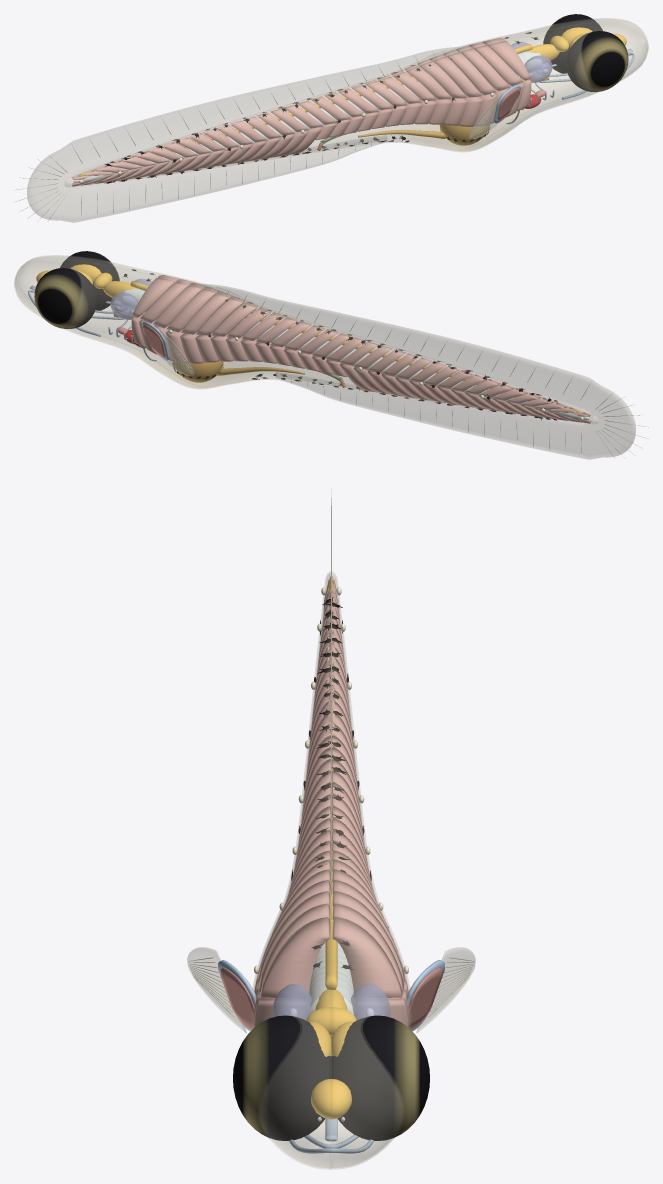
Rendered from zebrafish-larva.glb.
3 renders of one model, top to bottom at view 1: azimuth 30°, elevation 25°; view 2: azimuth 150°, elevation 25°; view 3: azimuth 270°, elevation 25°, orthographic. The views are drawn at different scales.
Parts seen in each view (by area): view 1: skin_R, median_fin_fold, myotomes_R, skin_L, eye_R, notochord, median_fin_fold_actinotrichia, eye_L, yolk, myotomes_L, pectoral_fin_fold_R, otic_vesicle_R (+6 smaller); view 2: skin_L, median_fin_fold, myotomes_L, skin_R, eye_L, notochord, median_fin_fold_actinotrichia, eye_R, yolk, myotomes_R, pectoral_fin_fold_L, otic_vesicle_L (+6 smaller); view 3: skin_L, skin_R, myotomes_R, myotomes_L, eye_R, eye_L, pectoral_fin_fold_L, pectoral_fin_fold_R, melanophore_stripe_dorsal, notochord, brain_telencephalon, pectoral_fin_musculature_L (+4 smaller).
Part boxes in pixels (x1,y1,x2,y2): skin_R: (64, 21, 648, 187); median_fin_fold: (27, 46, 473, 222); myotomes_R: (72, 40, 531, 186); skin_L: (71, 18, 644, 182); eye_R: (566, 31, 628, 91); notochord: (73, 51, 542, 182); median_fin_fold_actinotrichia: (14, 49, 453, 220); eye_L: (543, 14, 602, 73); yolk: (439, 123, 489, 145); myotomes_L: (72, 38, 504, 185); pectoral_fin_fold_R: (468, 91, 503, 139); otic_vesicle_R: (524, 55, 552, 82); skin_L: (14, 258, 598, 424); median_fin_fold: (189, 283, 635, 459); myotomes_L: (131, 277, 590, 423); skin_R: (18, 255, 591, 419); eye_L: (34, 268, 96, 328); notochord: (120, 288, 589, 419); median_fin_fold_actinotrichia: (209, 286, 648, 457); eye_R: (60, 251, 119, 310); yolk: (173, 360, 223, 382); myotomes_R: (158, 275, 590, 422); pectoral_fin_fold_L: (159, 328, 194, 376); otic_vesicle_L: (110, 292, 138, 319); skin_L: (331, 571, 411, 1169); skin_R: (251, 571, 331, 1169); myotomes_R: (253, 576, 330, 1027); myotomes_L: (332, 576, 409, 1027); eye_R: (233, 1015, 331, 1140); eye_L: (331, 1015, 429, 1140); pectoral_fin_fold_L: (416, 947, 475, 1032); pectoral_fin_fold_R: (187, 947, 246, 1032); melanophore_stripe_dorsal: (311, 597, 353, 970); notochord: (308, 592, 354, 1015); brain_telencephalon: (311, 1079, 351, 1119); pectoral_fin_musculature_L: (406, 967, 442, 1029).
Bounding box in the file's own units: 0.9666 × 0.1605 × 0.1912.
